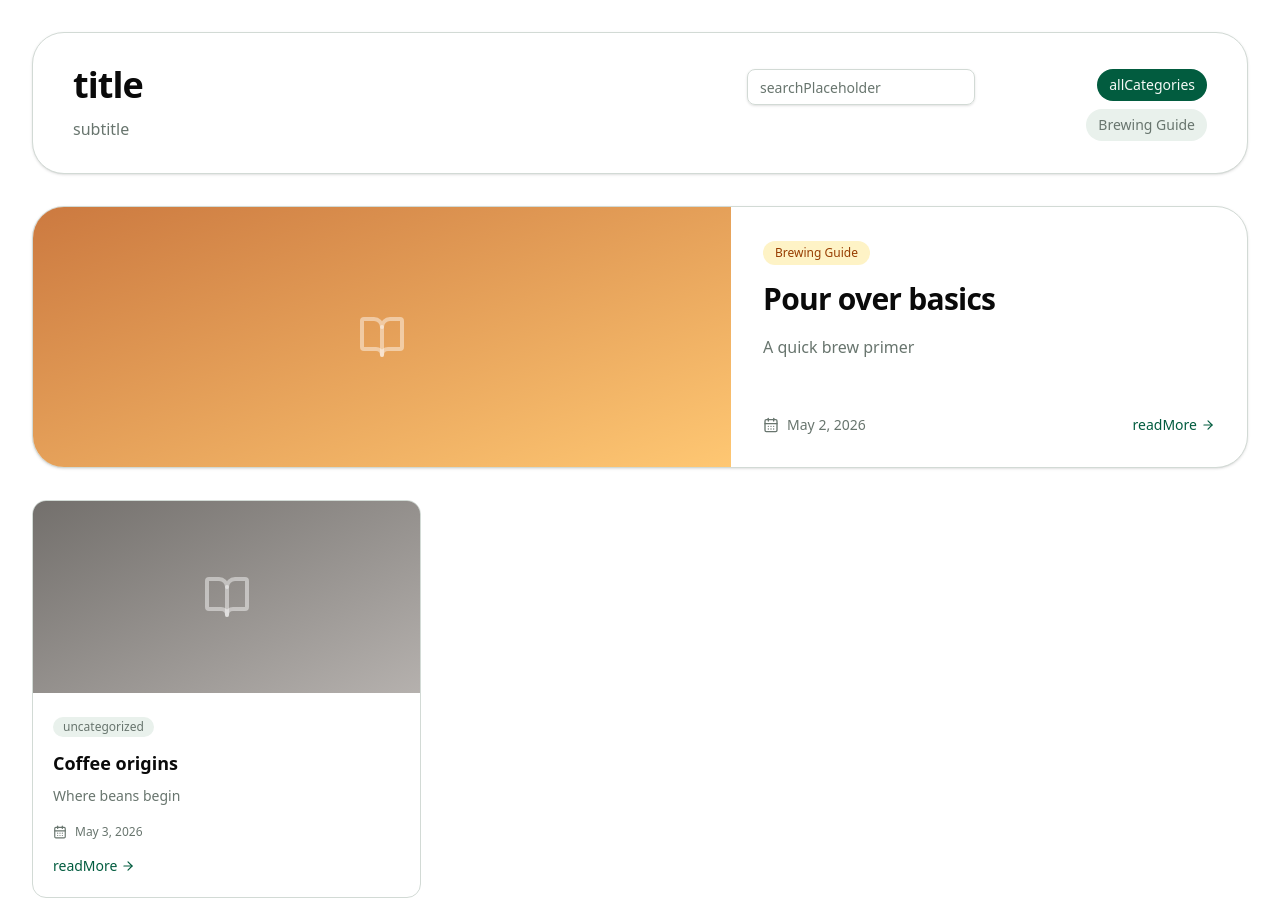
Test case: BlogPage › filters posts by search and category
Click the button "Brewing Guide" at coordinates (1147, 125), box x1=1086 y1=109 x2=1207 y2=141
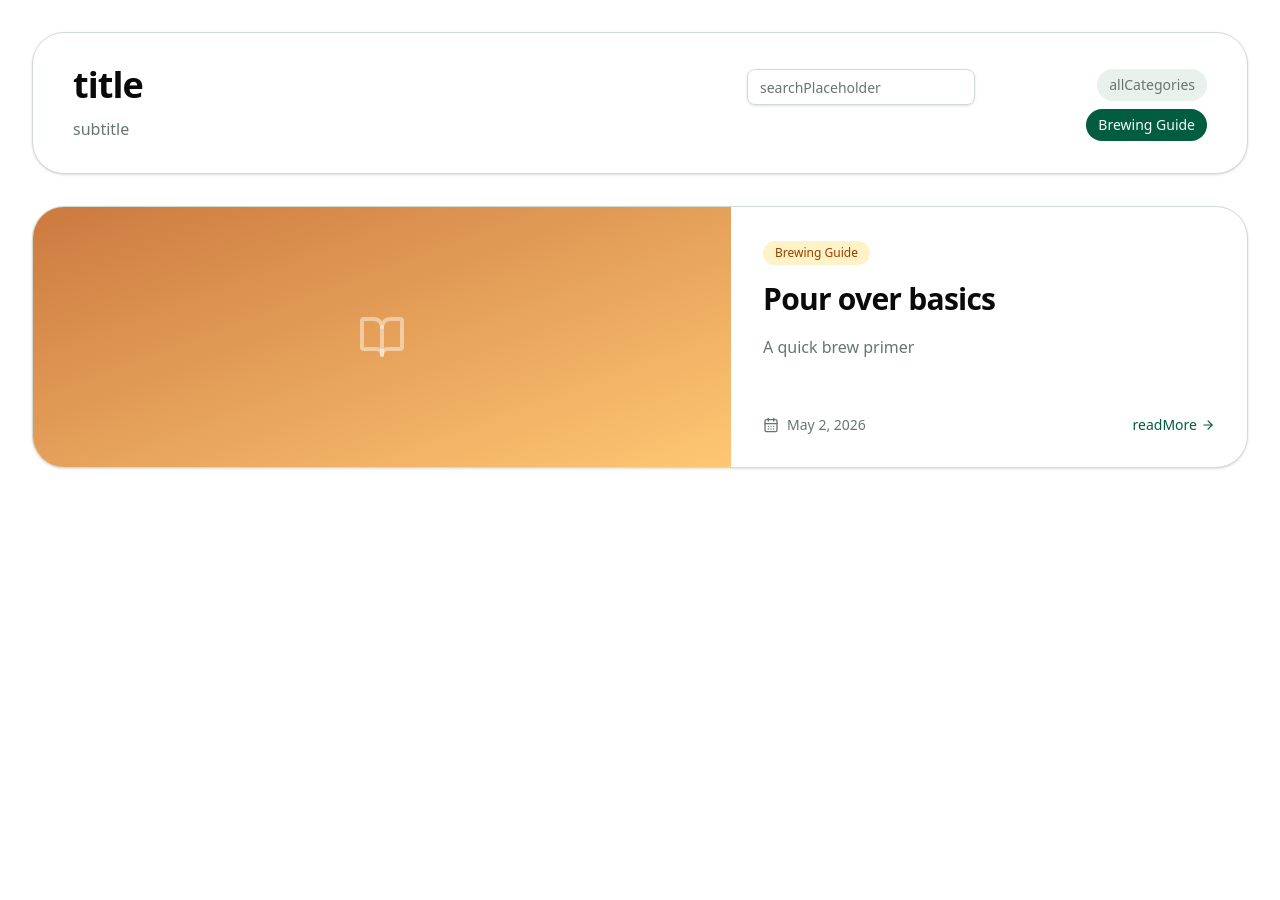
Expected: the heading "Pour over basics" is shown, x1=763 y1=278 x2=995 y2=319
Expected: the link "Coffee origins" is gone
Click the button "allCategories" at coordinates (1152, 85), box x1=1097 y1=69 x2=1207 y2=101
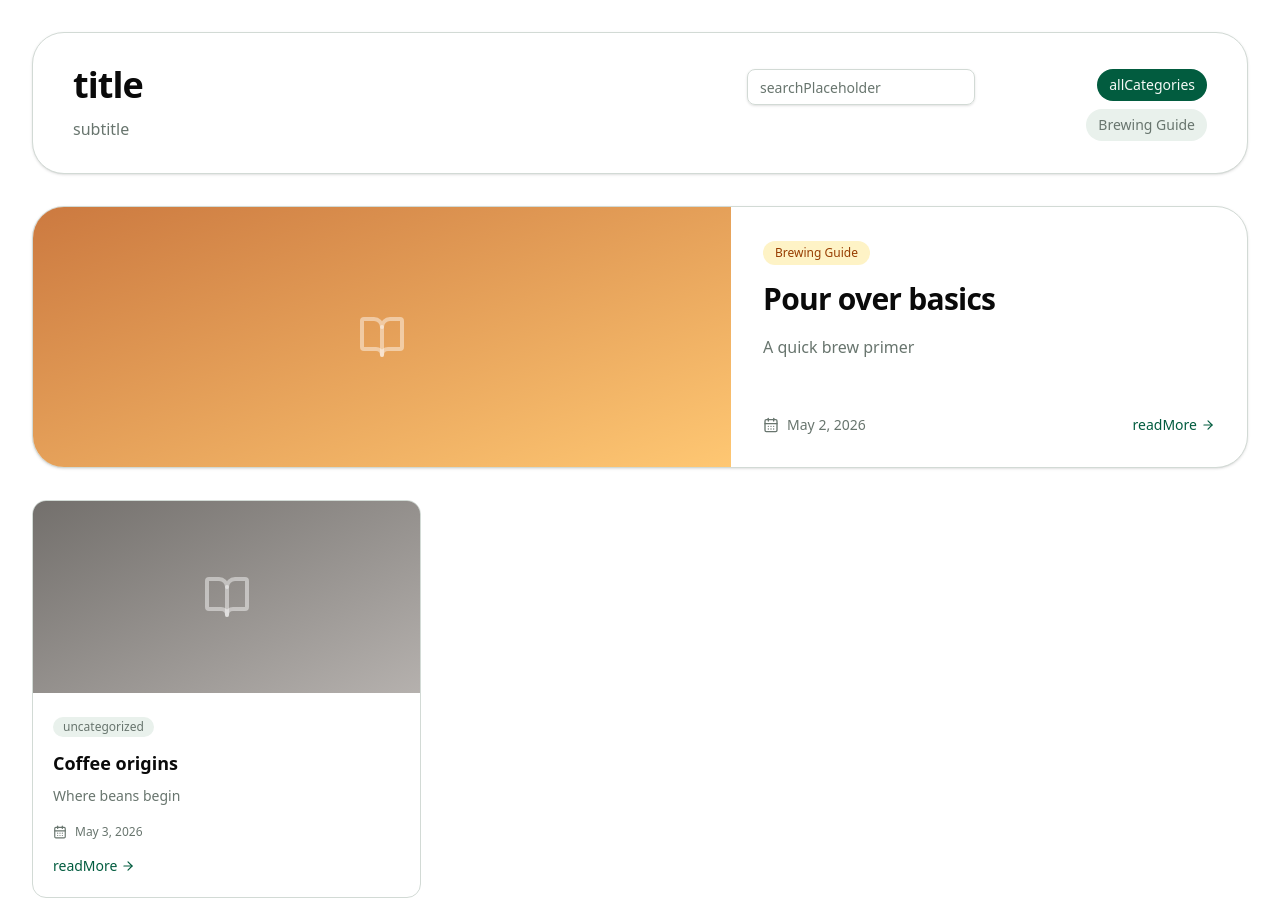
Type "origins" into the field with placeholder "searchPlaceholder" at coordinates (861, 87), box x1=747 y1=69 x2=975 y2=105
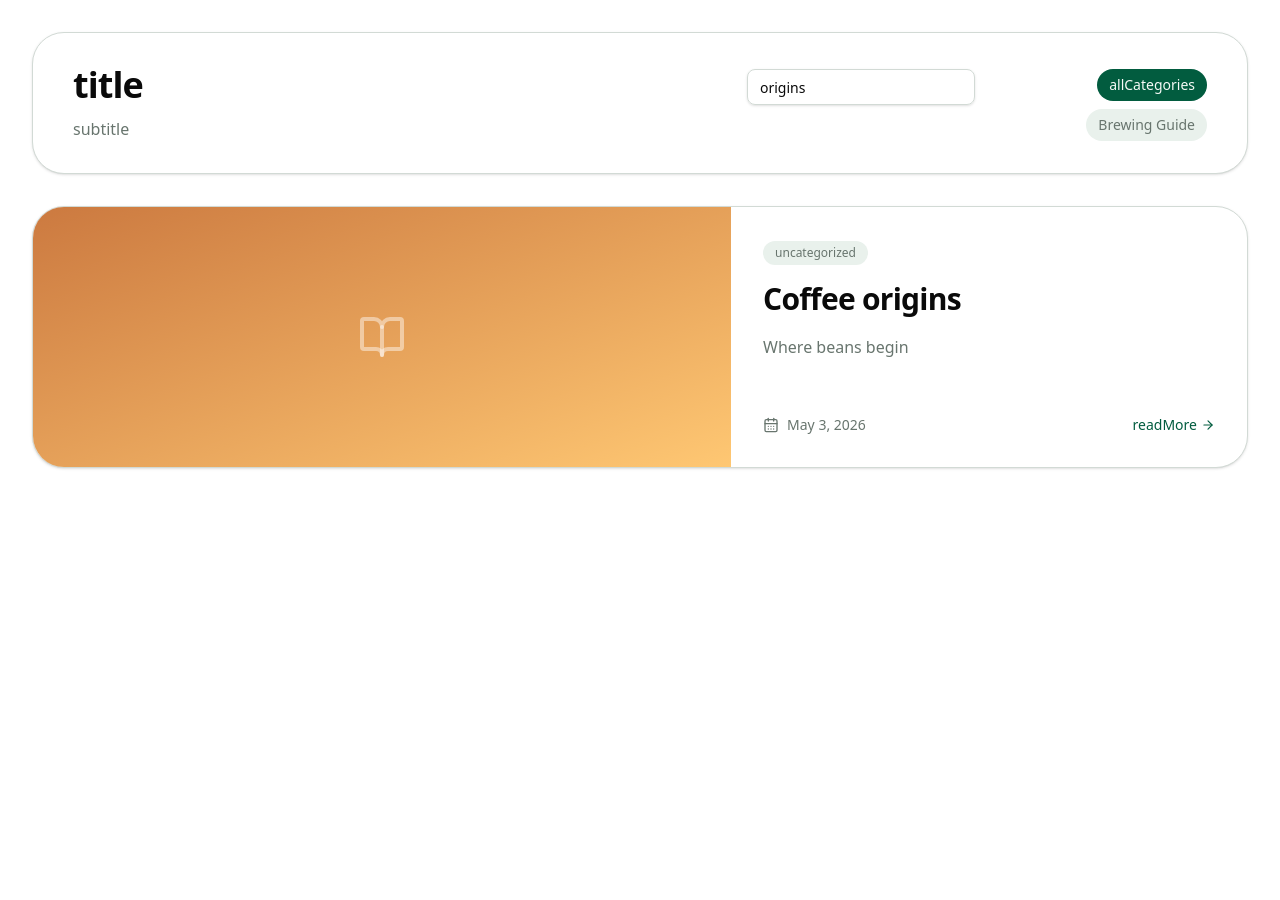
Expected: the link "Pour over basics" is gone
Expected: the heading "Coffee origins" is shown, x1=763 y1=278 x2=961 y2=319
